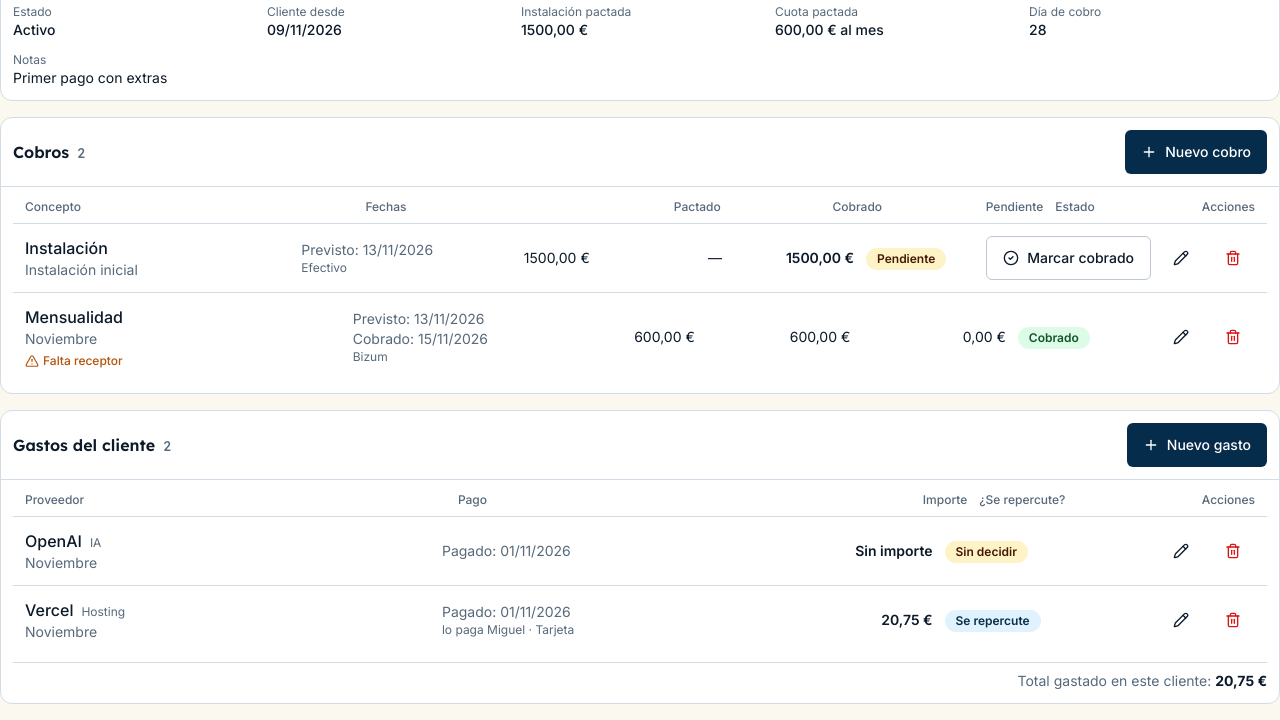
Test: ControlExcel › editar un gasto a medias y borrar otro (con confirmación)
Later steps or results of the test are not shown.
(page scrolled)
Click the button named "Editar gasto: OpenAI · Noviembre" at (1181, 550), box 1159,528 -> 1203,572
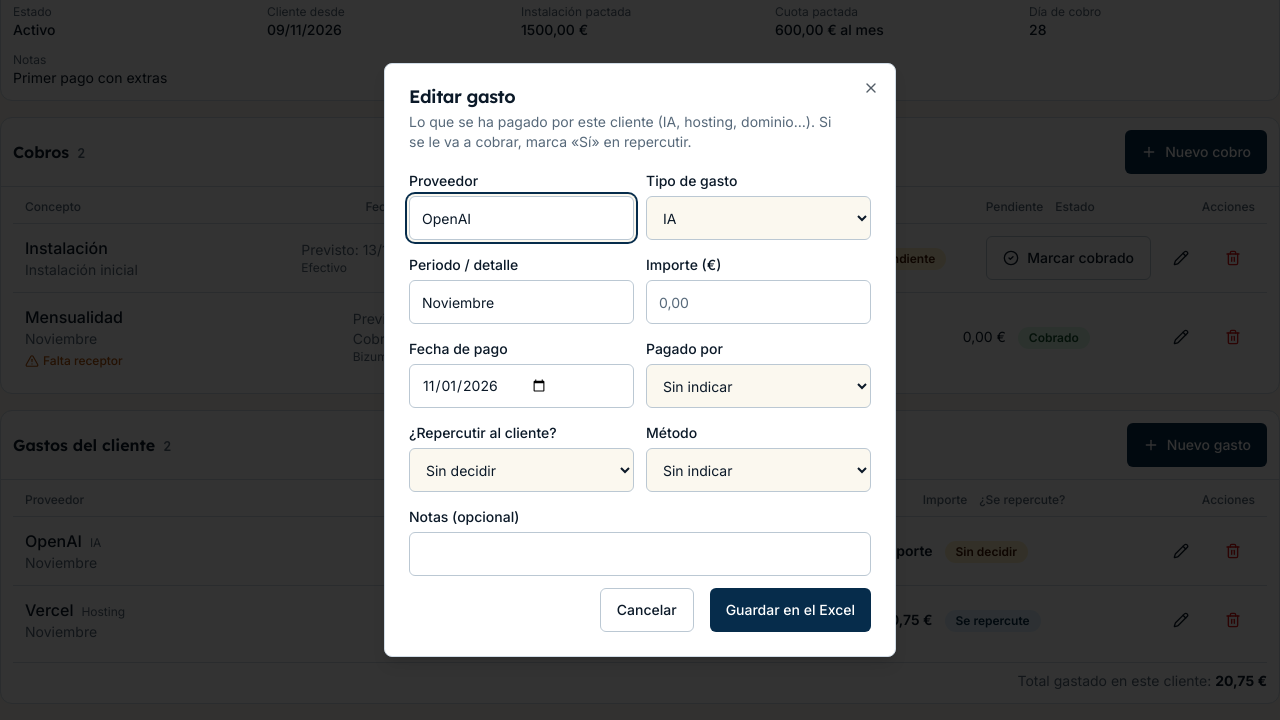
Expected: the field labelled "Proveedor" holds "OpenAI", 409,196 -> 634,240
